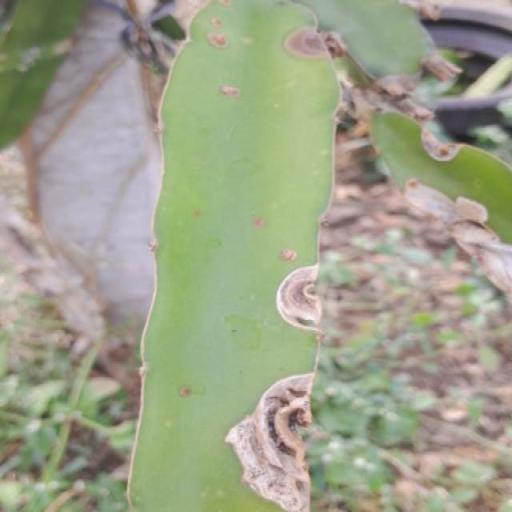stemcanker: (362, 286, 388, 336), (333, 271, 347, 317), (235, 192, 249, 234), (270, 355, 284, 390), (256, 246, 270, 280), (170, 404, 185, 432)
